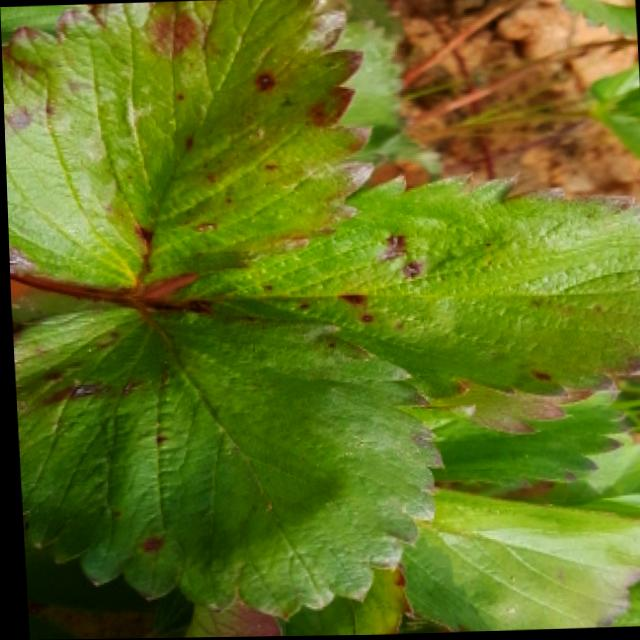Leaf Spot: (10, 306, 440, 620), (144, 169, 640, 406), (1, 0, 375, 290)
